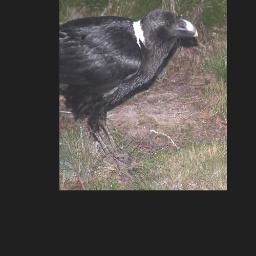Crow: (60, 7, 199, 184)
